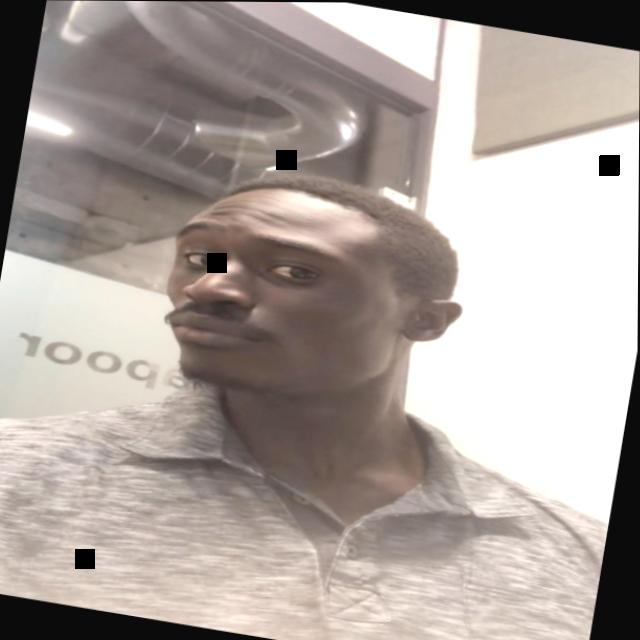NO-Mask: (154, 181, 434, 418)
